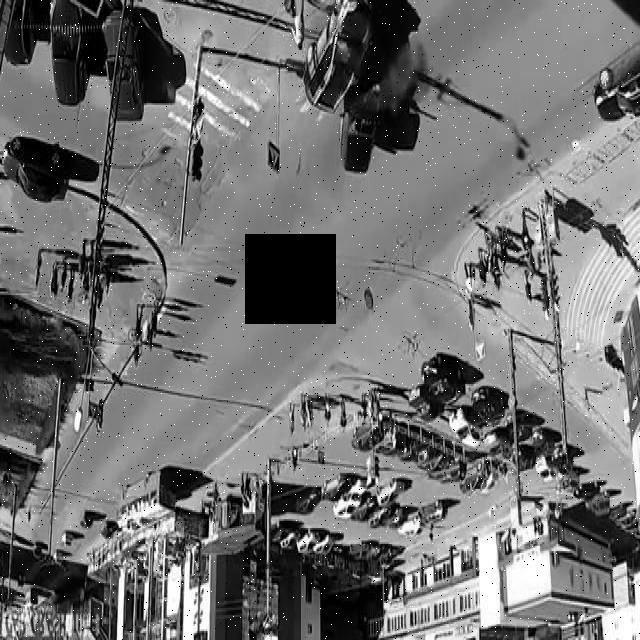vehicle: (314, 7, 442, 159)
